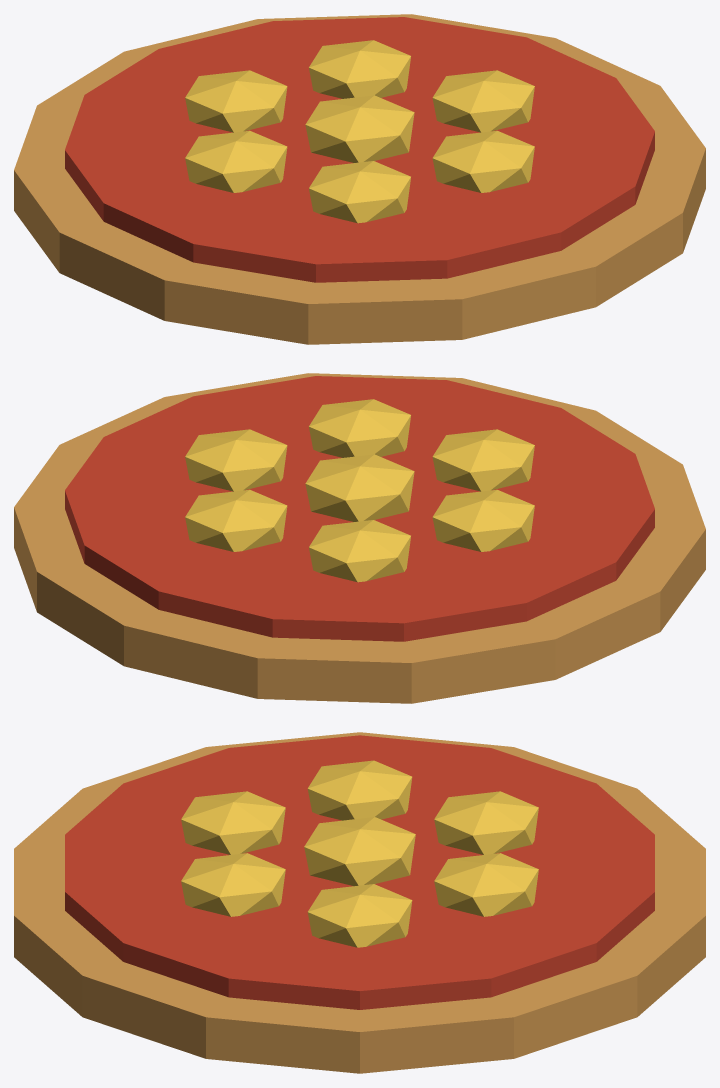
Rendered from drop_pizza.glb.
The picture shows the model from 3 angles, top to bottom: view 1: azimuth 30°, elevation 25°; view 2: azimuth 150°, elevation 25°; view 3: azimuth 270°, elevation 25°; orthographic projection. The views are drawn at different scales.
Parts seen in each view (by area): view 1: drop_pizza; view 2: drop_pizza; view 3: drop_pizza.
Part boxes in pixels (x1,y1,x2,y2): drop_pizza: [14, 14, 705, 344]; drop_pizza: [14, 373, 705, 703]; drop_pizza: [14, 732, 705, 1073].
Bounding box in the file's own units: 0.34 × 0.05 × 0.3315.
